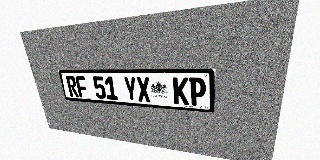1: (103, 76, 118, 100)
5: (92, 76, 107, 99)
F: (75, 76, 89, 98)
K: (173, 77, 189, 105)
P: (189, 77, 206, 106)
R: (65, 76, 79, 97)
X: (136, 77, 151, 102)
Y: (123, 77, 138, 101)
